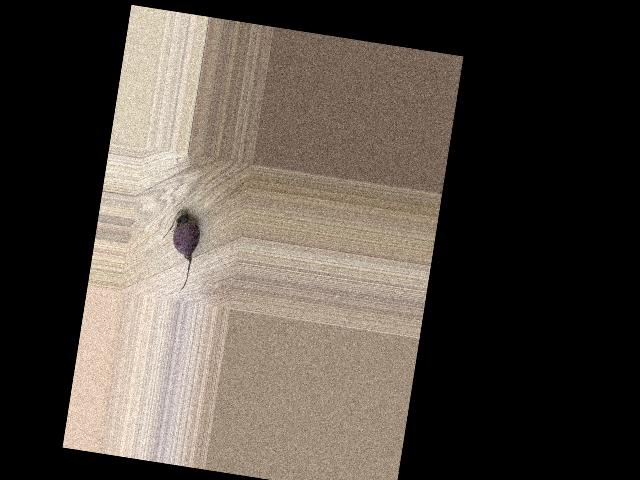beet: (156, 208, 203, 292)
